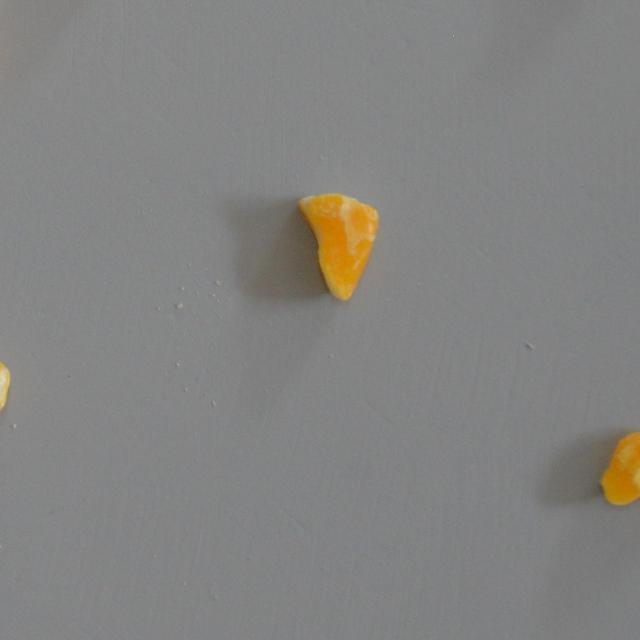pelicula: (294, 190, 379, 303), (600, 426, 640, 506), (0, 342, 12, 419)
